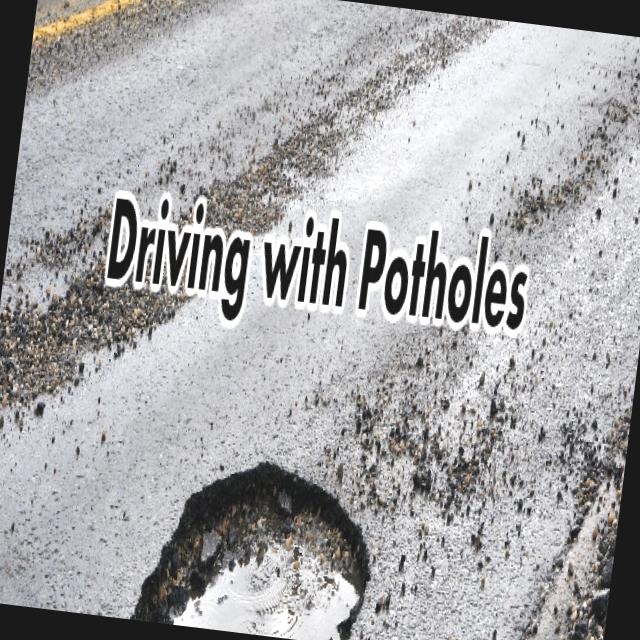bad-road: (129, 442, 383, 640)
